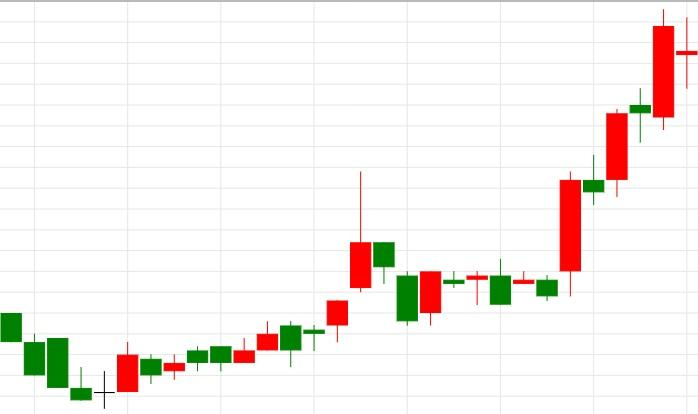shooting_star_fall: (280, 171, 372, 366)
